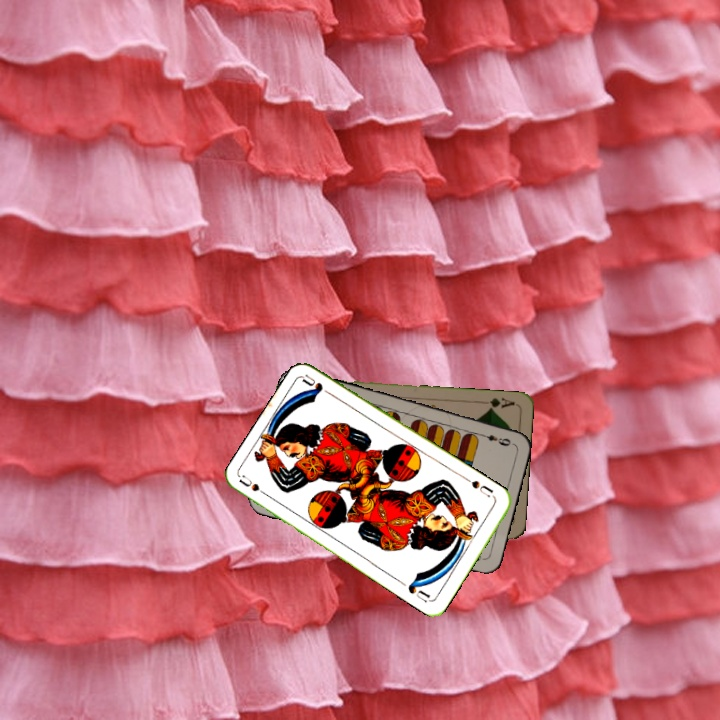E9: (476, 429, 515, 449)
GA: (477, 394, 517, 413)
SU: (236, 471, 274, 501), (467, 476, 496, 499)
